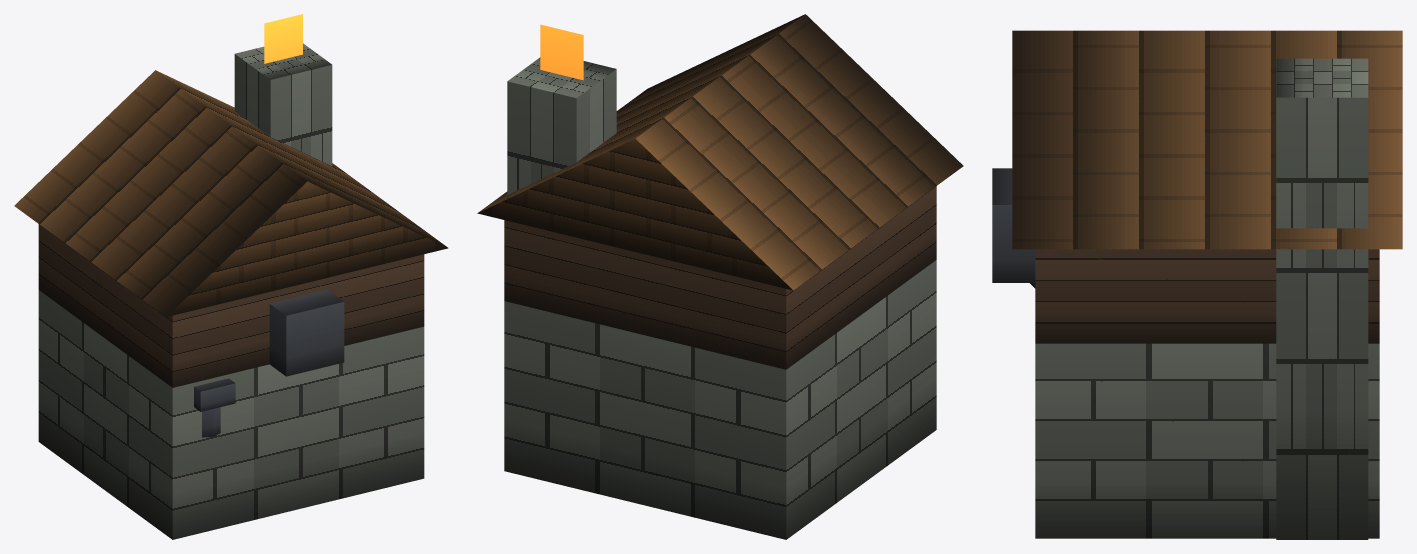
File: blacksmith.gltf
The picture shows the model from 3 angles, left to right: view 1: azimuth 30°, elevation 25°; view 2: azimuth 150°, elevation 25°; view 3: azimuth 270°, elevation 25°; orthographic projection. The views are drawn at different scales.
Visible parts, largest first — view 1: blacksmith; view 2: blacksmith; view 3: blacksmith.
Part boxes in pixels (bbox=[...]): blacksmith: bbox=[14, 14, 448, 539]; blacksmith: bbox=[477, 14, 963, 539]; blacksmith: bbox=[992, 30, 1402, 539].
Bounding box in the file's own units: 1.46 × 1.9 × 1.43.
1 material, 1 textured.
